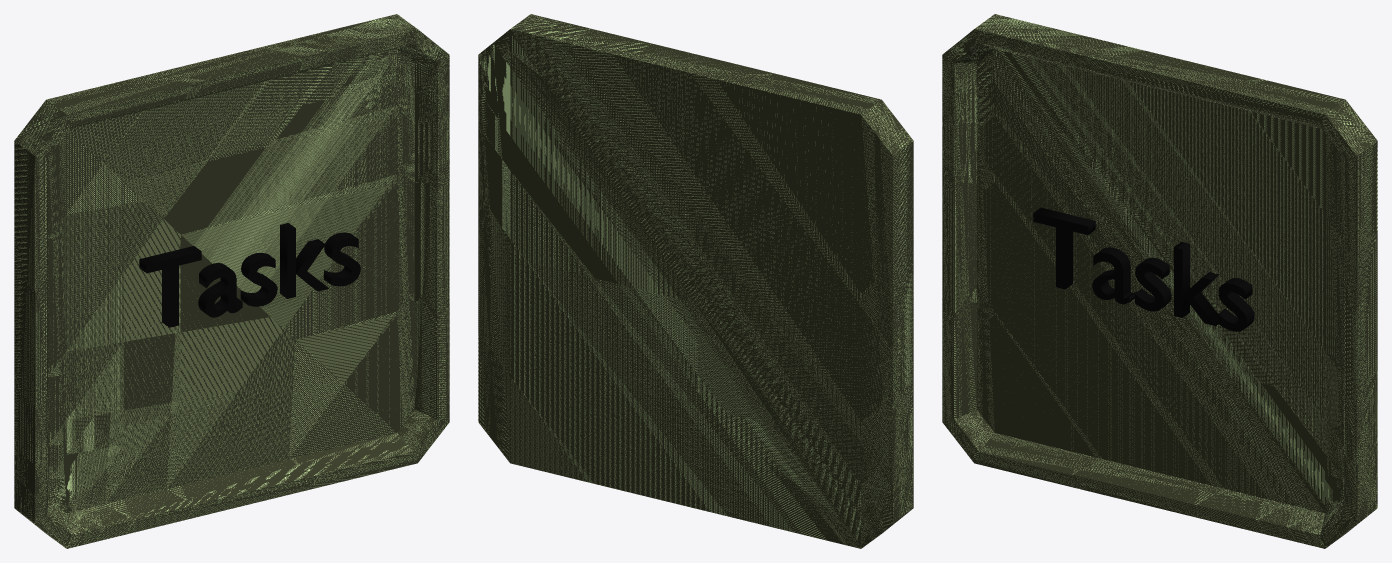
File: Button_Tasks.obj
The picture shows the model from 3 angles, left to right: view 1: azimuth 30°, elevation 25°; view 2: azimuth 150°, elevation 25°; view 3: azimuth 330°, elevation 25°; orthographic projection.
Parts seen in each view (by area): view 1: SketchUp.001, SketchUp, Text.001; view 2: SketchUp; view 3: SketchUp.001, SketchUp, Text.001.
Part boxes in pixels (x1,y1,x2,y2): SketchUp.001: [47, 43, 437, 534]; SketchUp: [14, 14, 449, 548]; Text.001: [139, 223, 360, 327]; SketchUp: [478, 14, 913, 548]; SketchUp.001: [954, 43, 1344, 534]; SketchUp: [942, 14, 1377, 548]; Text.001: [1033, 207, 1254, 331].
Size of the model in its own units: 1 by 1 by 0.1296.
